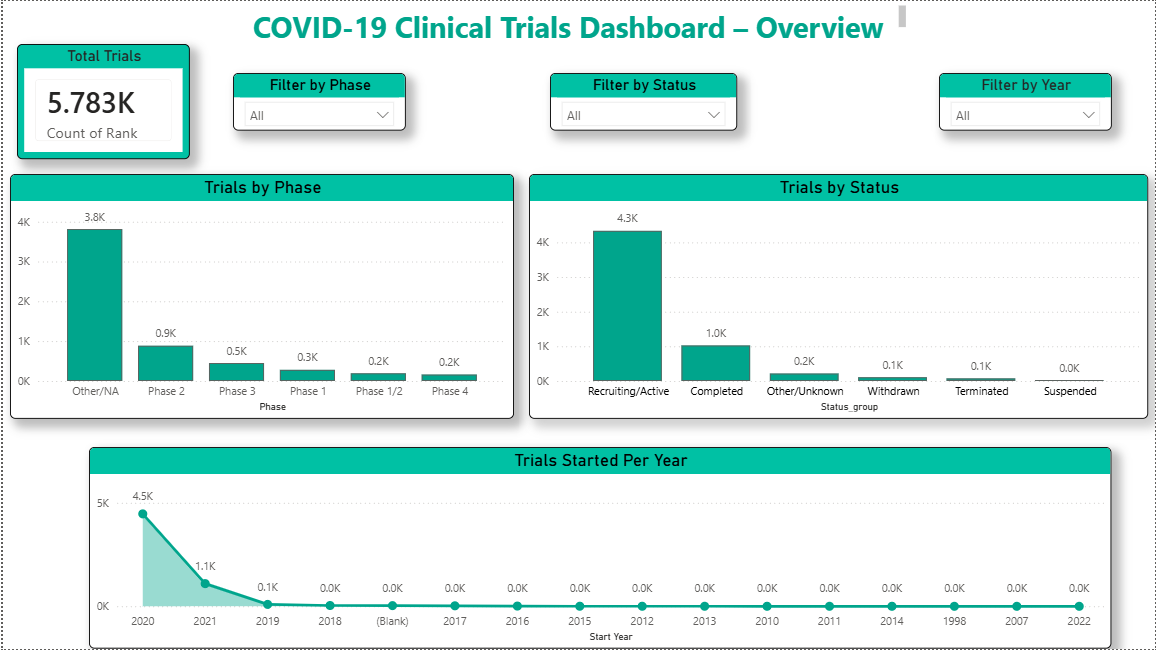

The dashboard page shown, as its layout file describes it:
{"tool":"powerbi","page":{"name":"Overview","canvas":[1280,720],"ordinal":1},"visuals":[{"type":"textbox","box":[272,0,736,48],"z":0},{"type":"cardVisual","title":"Total Trials","fields":{"Data":["CountNonNull(v_covid_clinical_trials.Rank)"]},"box":[16,48,192,128],"z":1000},{"type":"clusteredColumnChart","title":"Trials by Phase","fields":{"Category":["v_covid_clinical_trials.Phase_norm"],"Y":["CountNonNull(v_covid_clinical_trials.Rank)"]},"box":[8,192,560,272],"z":2000},{"type":"clusteredColumnChart","title":"Trials by Status","fields":{"Category":["v_covid_clinical_trials.Status_group"],"Y":["CountNonNull(v_covid_clinical_trials.Rank)"]},"box":[584,192,688,272],"z":3000},{"type":"lineChart","title":"Trials Started Per Year","fields":{"Category":["v_covid_clinical_trials.StartYear"],"Y":["CountNonNull(v_covid_clinical_trials.Rank)"]},"box":[96,496,1136,224],"z":4000},{"type":"slicer","title":"Filter by Phase","fields":{"Values":["v_covid_clinical_trials.Phase_norm"]},"box":[256,80,192,64],"z":5000},{"type":"slicer","title":"Filter by Status","fields":{"Values":["v_covid_clinical_trials.Status_group"]},"box":[608,80,208,64],"z":6000},{"type":"slicer","title":"Filter by Year","fields":{"Values":["v_covid_clinical_trials.StartYear"]},"box":[1040,80,192,64],"z":7000}]}

Visuals, with their boxes in screenshot pixels (x1, y1, x2, y2), scaled from the page's 1280x720 canvas onto the 1156x650 screenshot:
textbox: [left=246, top=0, right=910, bottom=43]
"Total Trials" cardVisual: [left=14, top=43, right=188, bottom=159]
"Trials by Phase" clusteredColumnChart: [left=7, top=173, right=513, bottom=419]
"Trials by Status" clusteredColumnChart: [left=527, top=173, right=1149, bottom=419]
"Trials Started Per Year" lineChart: [left=87, top=448, right=1113, bottom=649]
"Filter by Phase" slicer: [left=231, top=72, right=405, bottom=130]
"Filter by Status" slicer: [left=549, top=72, right=737, bottom=130]
"Filter by Year" slicer: [left=939, top=72, right=1113, bottom=130]
